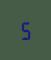five: (19, 20, 30, 40)
